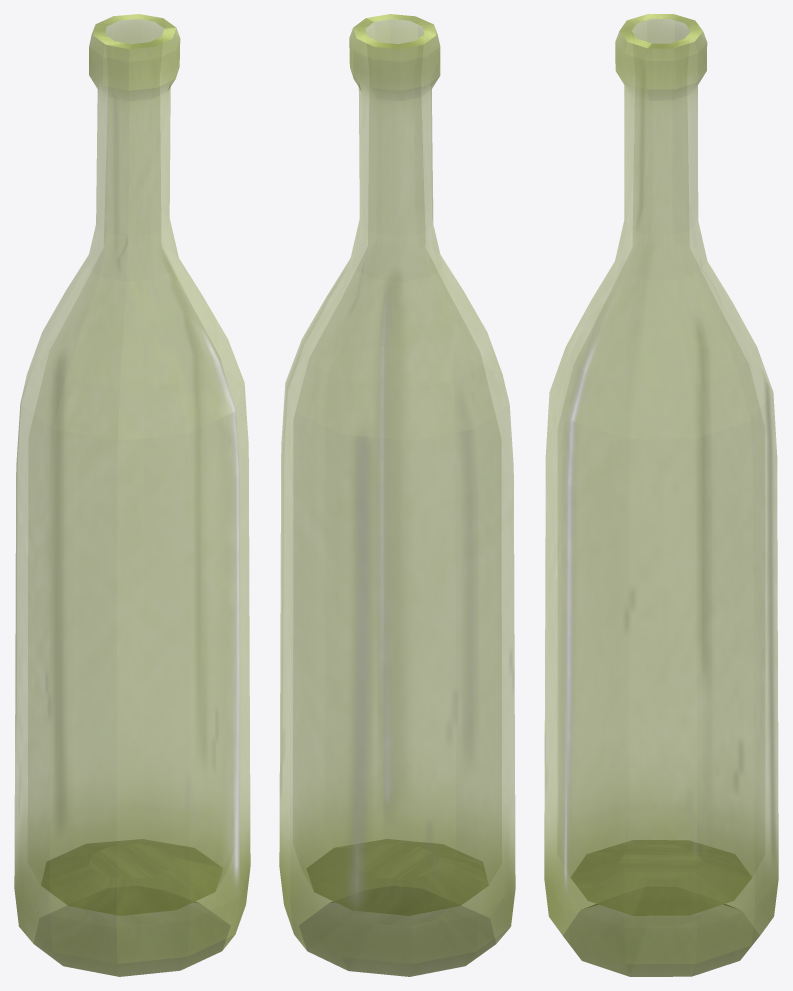
The model's file is Garrafa-de-Vinho-Oliva.glb.
The picture shows the model from 3 angles, left to right: view 1: azimuth 30°, elevation 25°; view 2: azimuth 150°, elevation 25°; view 3: azimuth 270°, elevation 25°; orthographic projection.
Visible parts, largest first — view 1: Garrafa de vinho; view 2: Garrafa de vinho; view 3: Garrafa de vinho.
Boxes of the visible parts, x1,y1,x2,y2 form: Garrafa de vinho: [14, 14, 250, 976]; Garrafa de vinho: [279, 14, 515, 976]; Garrafa de vinho: [544, 14, 778, 976].
Size of the model in its own units: 0.0754 by 0.324 by 0.076.
Materials: 1 (1 with a texture image).
